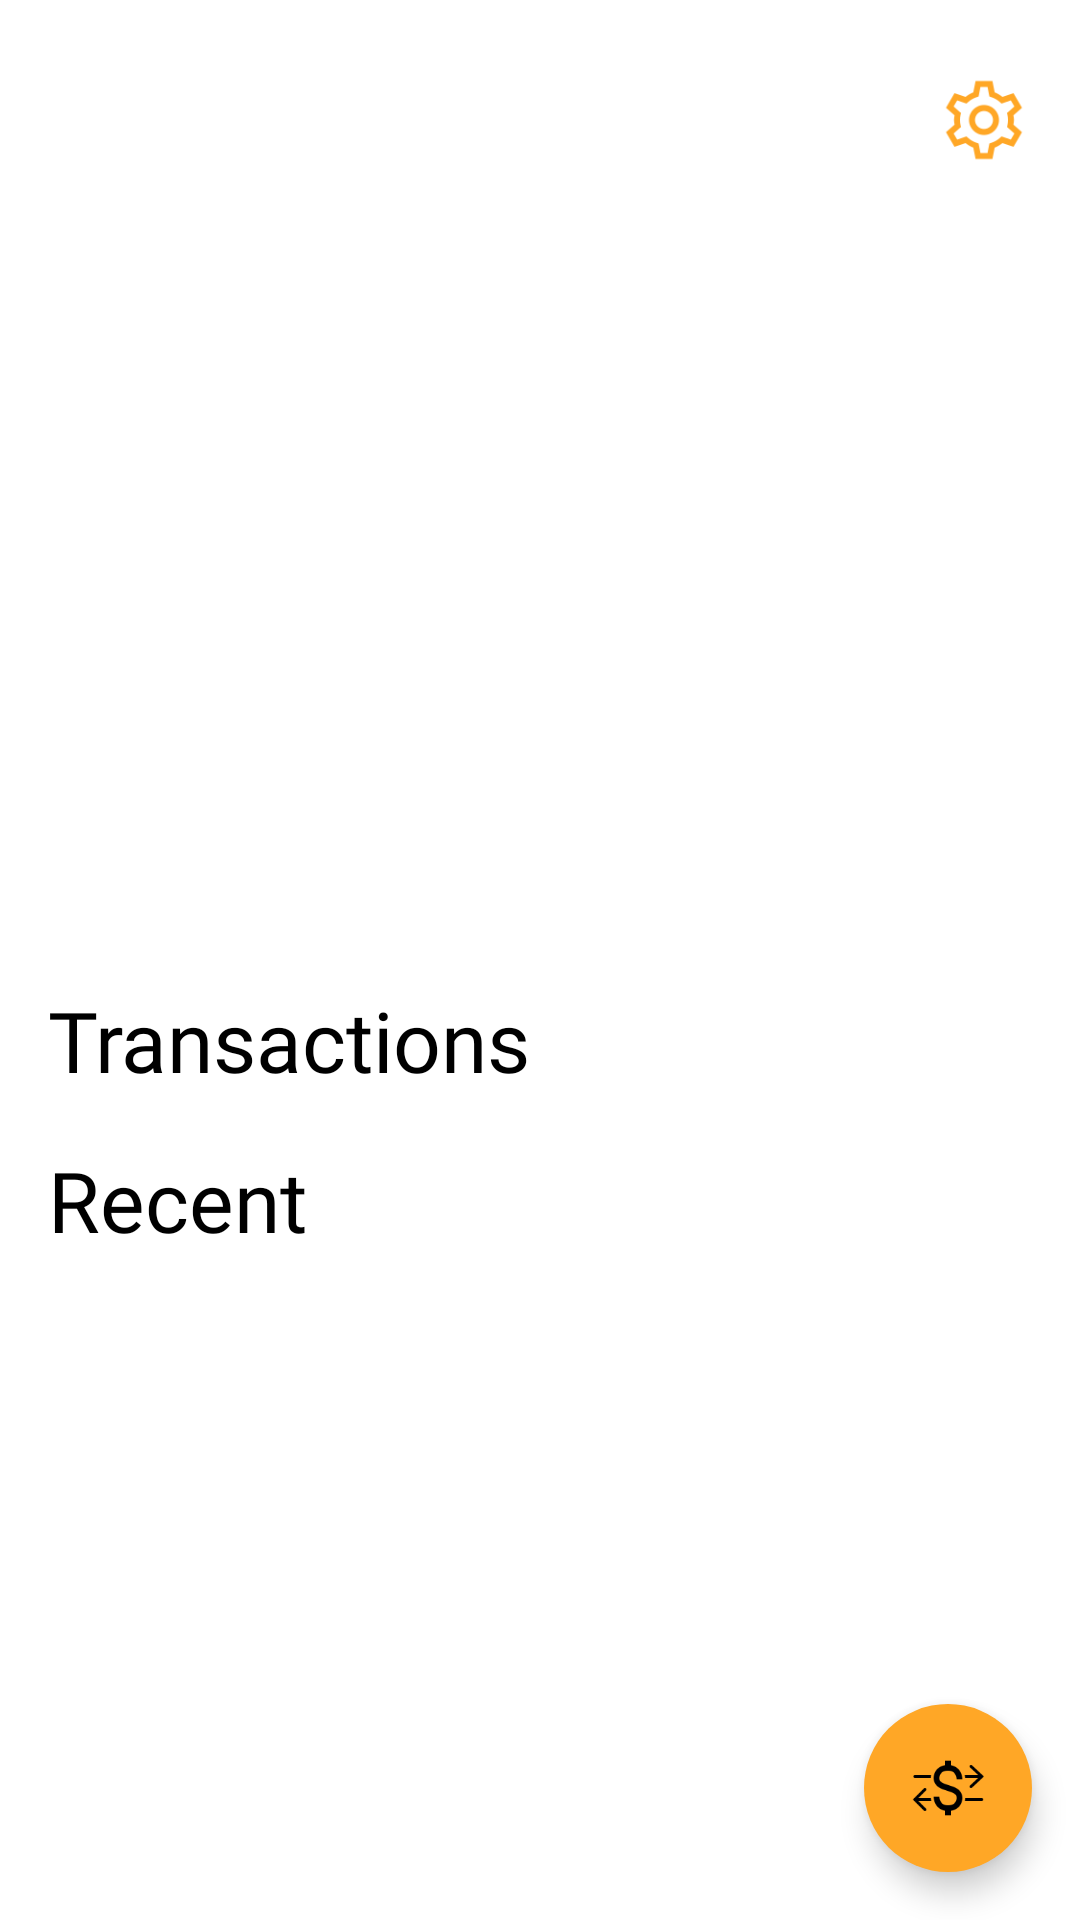

Icons on this 1080x1920 Android screen, each with its box as Rect(x1, y1, x2, y2):
button for adding new transaction: Rect(864, 1704, 1032, 1872)
button for settings fragment: Rect(946, 80, 1022, 160)
